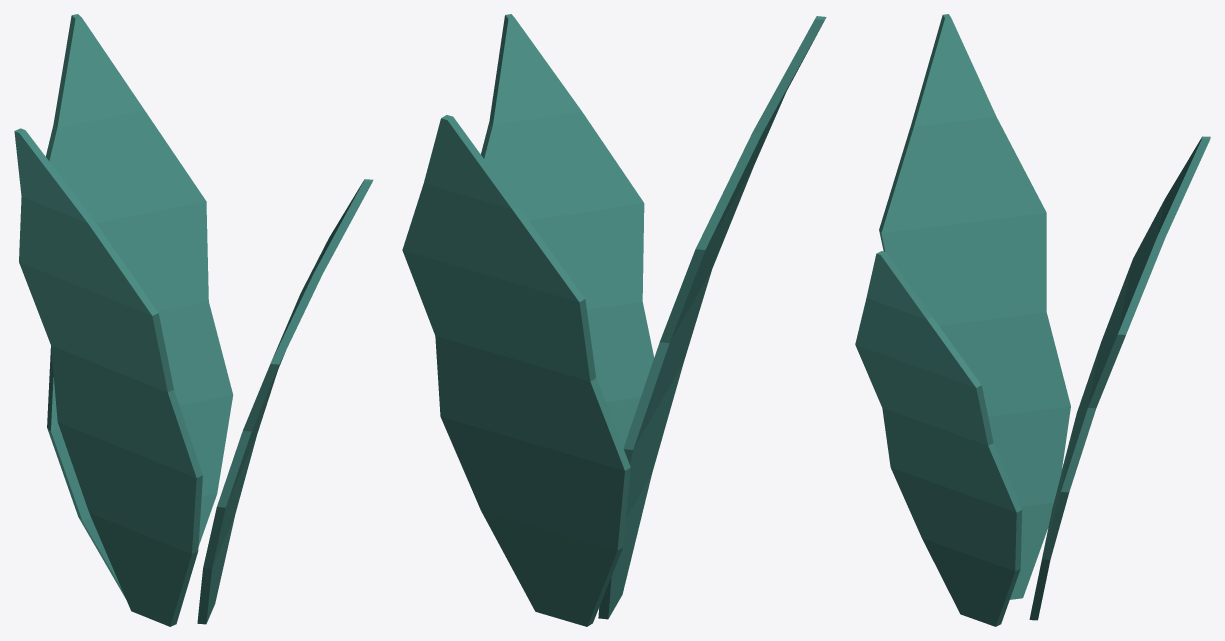
Rendered from plant_002c_broad_seaweed.glb.
3 views of the same model, side by side, from view 1: azimuth 30°, elevation 25°; view 2: azimuth 150°, elevation 25°; view 3: azimuth 270°, elevation 25° (orthographic). The views are drawn at different scales.
Parts seen in each view (by area): view 1: plant_002c_broad_seaweed__mesh; view 2: plant_002c_broad_seaweed__mesh; view 3: plant_002c_broad_seaweed__mesh.
Boxes of the visible parts, x1,y1,x2,y2 form: plant_002c_broad_seaweed__mesh: [14, 14, 373, 626]; plant_002c_broad_seaweed__mesh: [402, 14, 826, 626]; plant_002c_broad_seaweed__mesh: [855, 14, 1210, 626].
Bounding box in the file's own units: 0.571 × 0.9236 × 0.5836.
